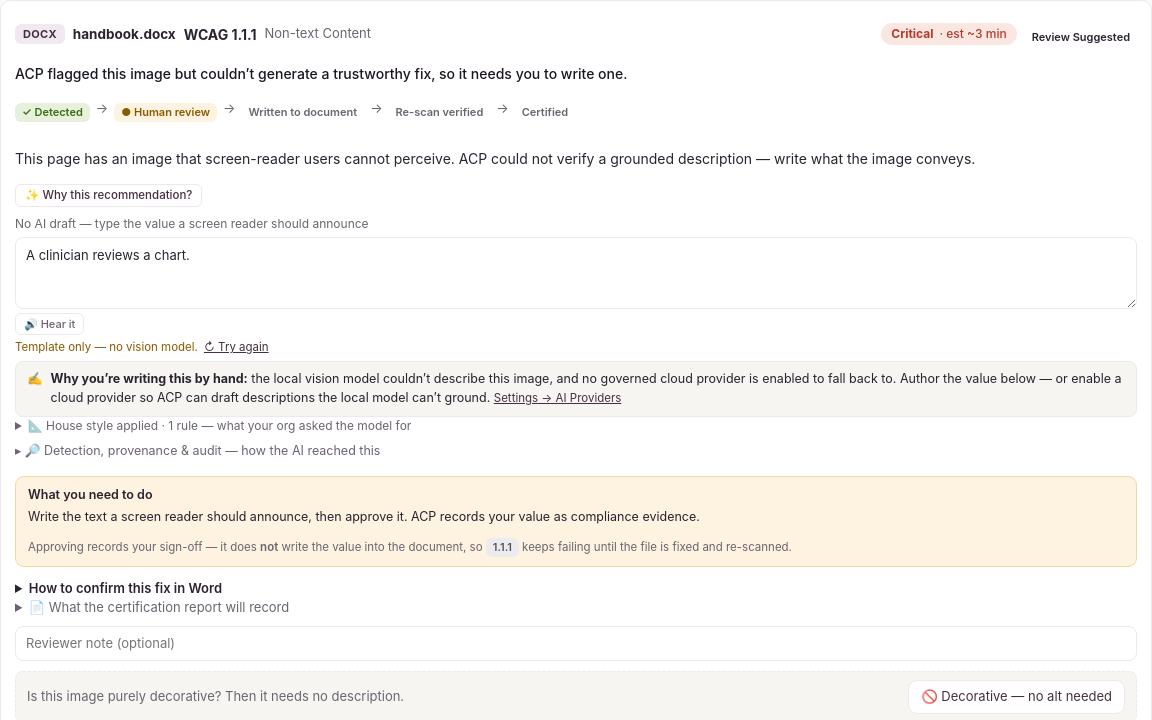
Scenario: the review card renders the chip › drops the chip when a re-draft is no longer shaped by memory
Expected: the element with class "evcard-house-style" is shown, [28, 418, 411, 433]
Click the button "↻ Try again".
click(236, 347)  # box [204, 339, 269, 355]
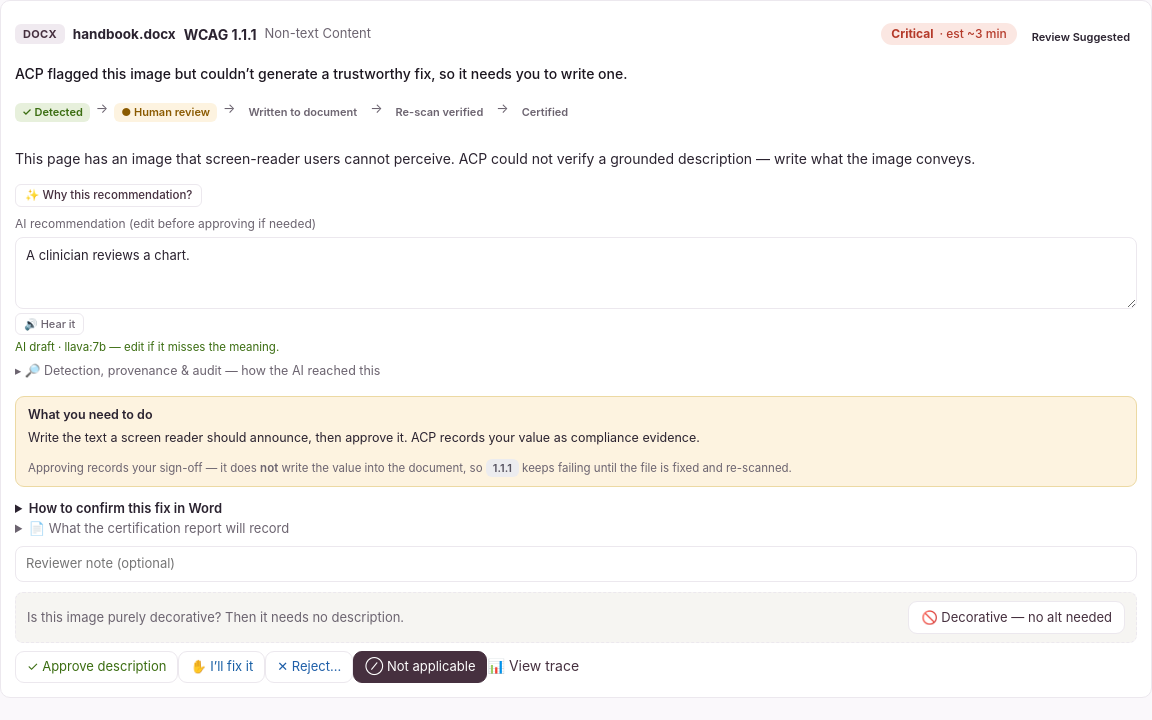
Result: the element with class "evcard-house-style" is gone
